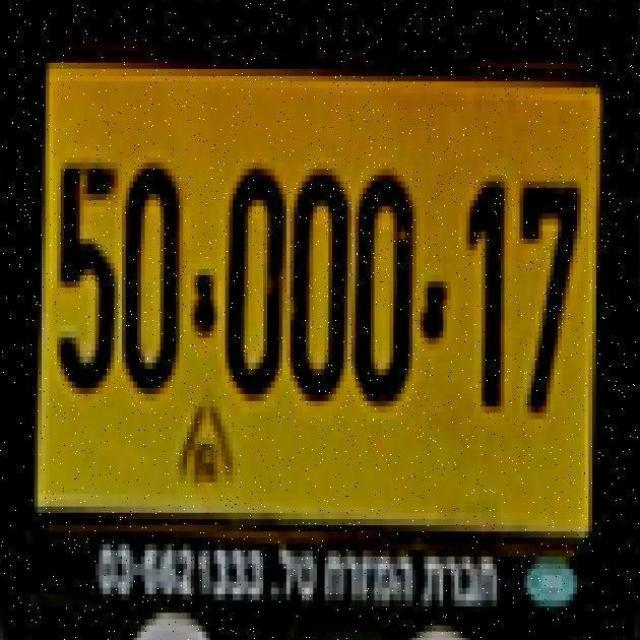license-plate: (52, 68, 597, 640)
